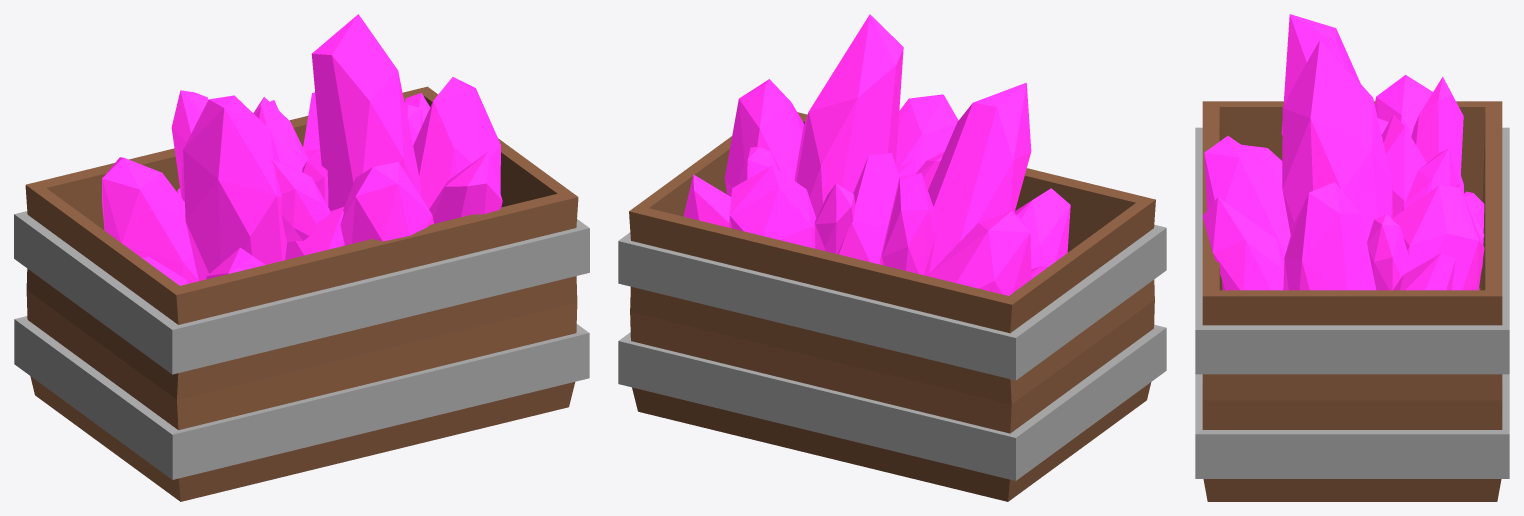
File: crystal_box.fbx
3 views of the same model, side by side, from view 1: azimuth 30°, elevation 25°; view 2: azimuth 150°, elevation 25°; view 3: azimuth 270°, elevation 25° (orthographic). The views are drawn at different scales.
Parts seen in each view (by area): view 1: box, crystals; view 2: box, crystals; view 3: box, crystals.
Boxes of the visible parts, x1,y1,x2,y2 form: box: (14,86,589,501); crystals: (102,14,502,285); box: (618,112,1166,501); crystals: (683,14,1070,295); box: (1195,101,1509,501); crystals: (1202,14,1484,290).
Bounding box in the file's own units: 166 × 148 × 109.
